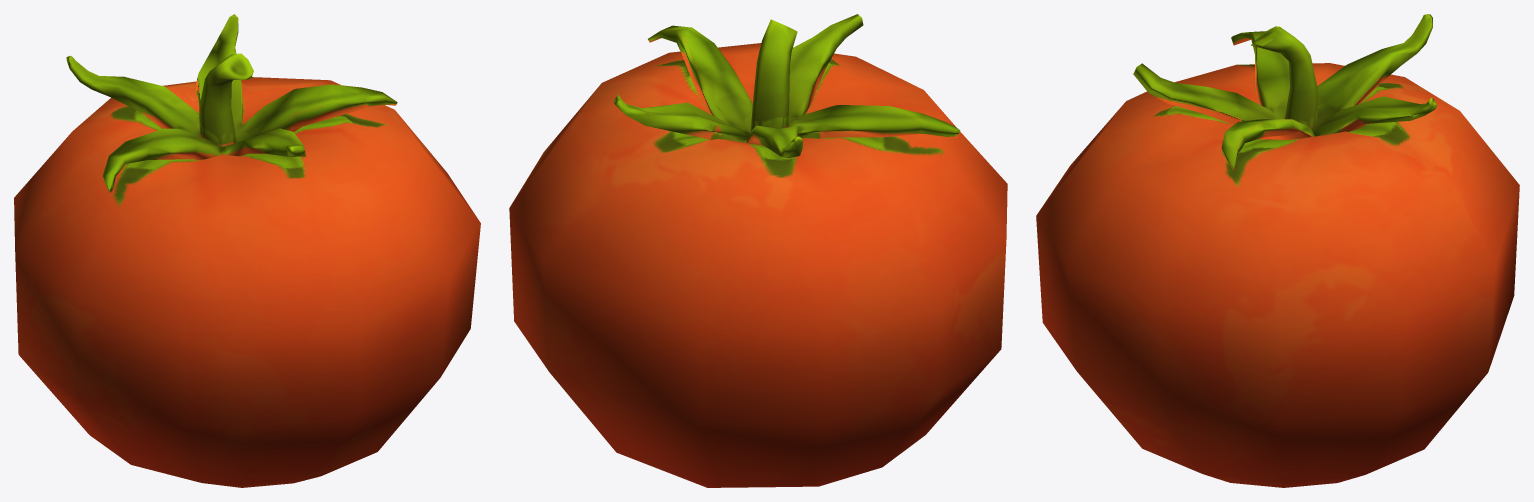
File: domates.fbx
3 renders of one model, left to right at view 1: azimuth 30°, elevation 25°; view 2: azimuth 150°, elevation 25°; view 3: azimuth 270°, elevation 25°, orthographic. The views are drawn at different scales.
Visible parts, largest first — view 1: domates; view 2: domates; view 3: domates.
Part boxes in pixels (x1=…): domates: x1=14, y1=14, x2=480, y2=487; domates: x1=509, y1=14, x2=1007, y2=487; domates: x1=1036, y1=14, x2=1519, y2=487.
Size of the model in its own units: 16.94 by 16.59 by 17.08.
